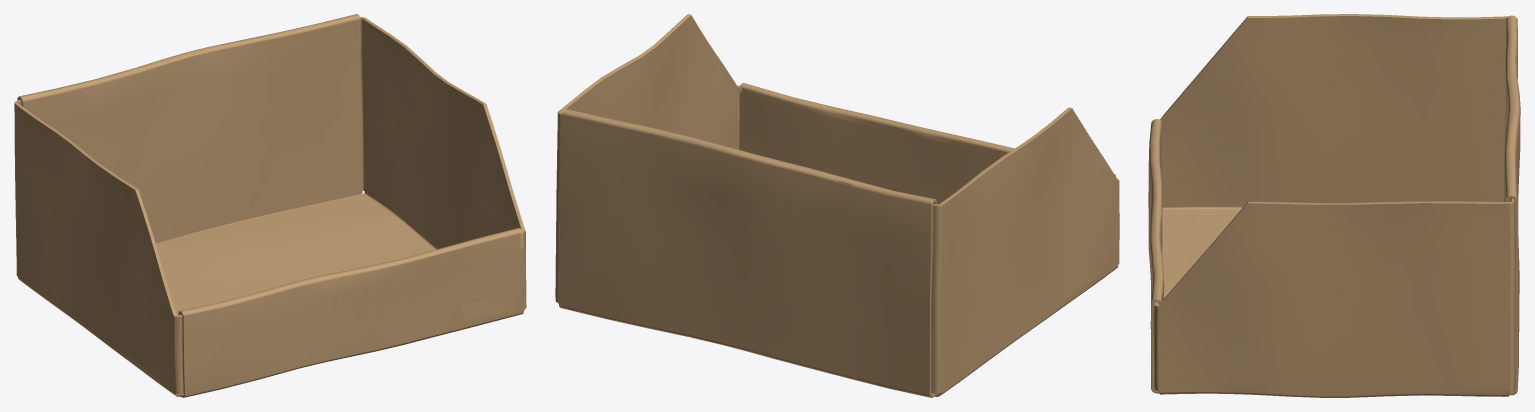
The model's file is box_cardboard_open_a04.glb.
3 views of the same model, side by side, from view 1: azimuth 30°, elevation 25°; view 2: azimuth 150°, elevation 25°; view 3: azimuth 270°, elevation 25° (orthographic). The views are drawn at different scales.
Size of the model in its own units: 0.6182 by 0.3092 by 0.5128.
